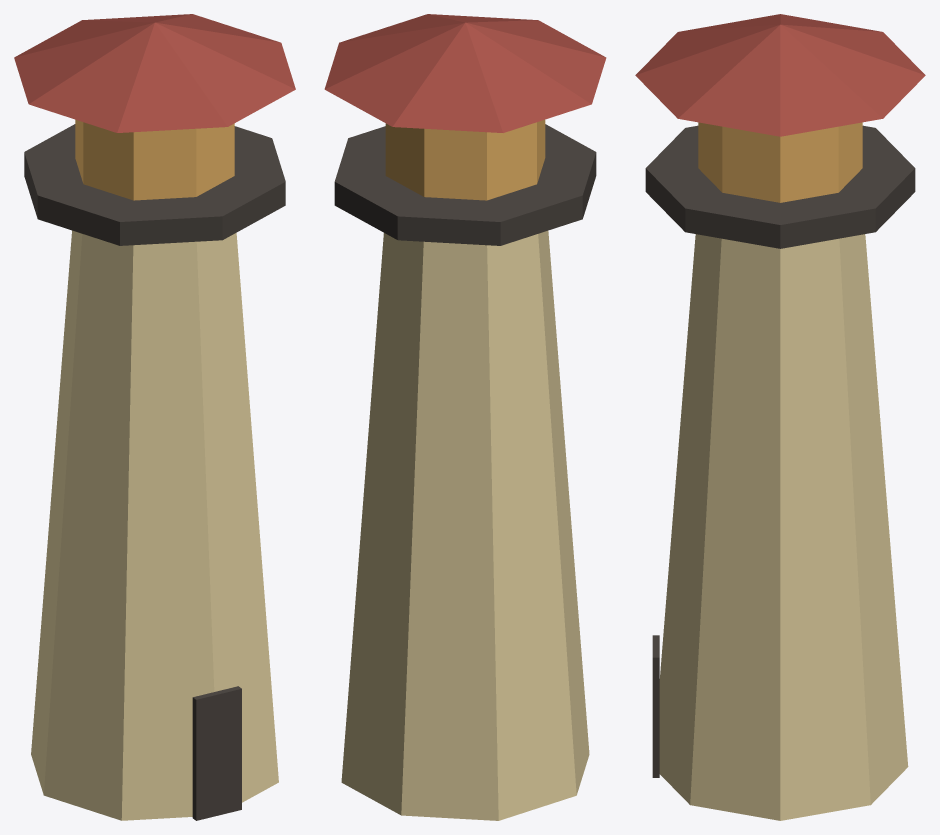
Rendered from bld_lighthouse.glb.
The picture shows the model from 3 angles, left to right: view 1: azimuth 30°, elevation 25°; view 2: azimuth 150°, elevation 25°; view 3: azimuth 270°, elevation 25°; orthographic projection.
Parts seen in each view (by area): view 1: bld_lighthouse; view 2: bld_lighthouse; view 3: bld_lighthouse.
Boxes of the visible parts, x1,y1,x2,y2 form: bld_lighthouse: [14, 14, 295, 820]; bld_lighthouse: [324, 14, 606, 820]; bld_lighthouse: [635, 14, 925, 820].
Bounding box in the file's own units: 1.66 × 4.68 × 1.66.
Materials: 1 (1 with a texture image).
